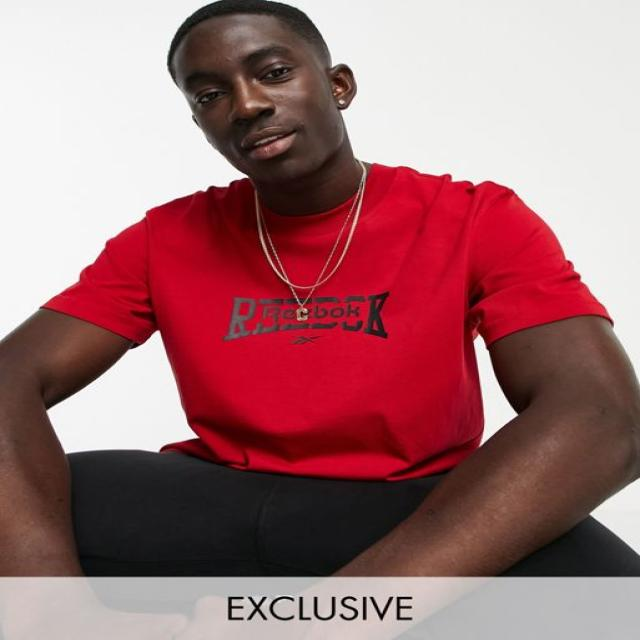tshirt: (40, 160, 610, 481)
